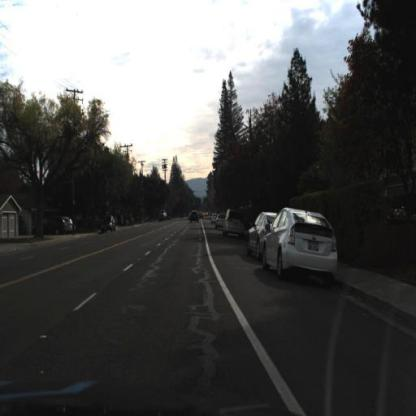car: (261, 206, 340, 285), (261, 207, 342, 284), (245, 209, 280, 259), (38, 214, 75, 240), (224, 208, 248, 244), (38, 216, 68, 237), (100, 214, 116, 237), (101, 213, 117, 234)
